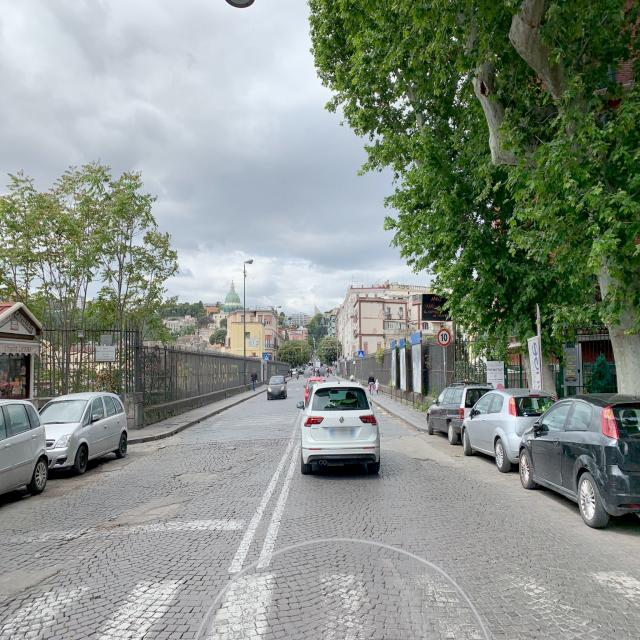car: (518, 392, 640, 530), (462, 387, 557, 473), (300, 376, 381, 476), (38, 390, 129, 476), (0, 396, 49, 519), (426, 382, 492, 445), (304, 376, 324, 408), (266, 374, 288, 400), (291, 367, 299, 378)
